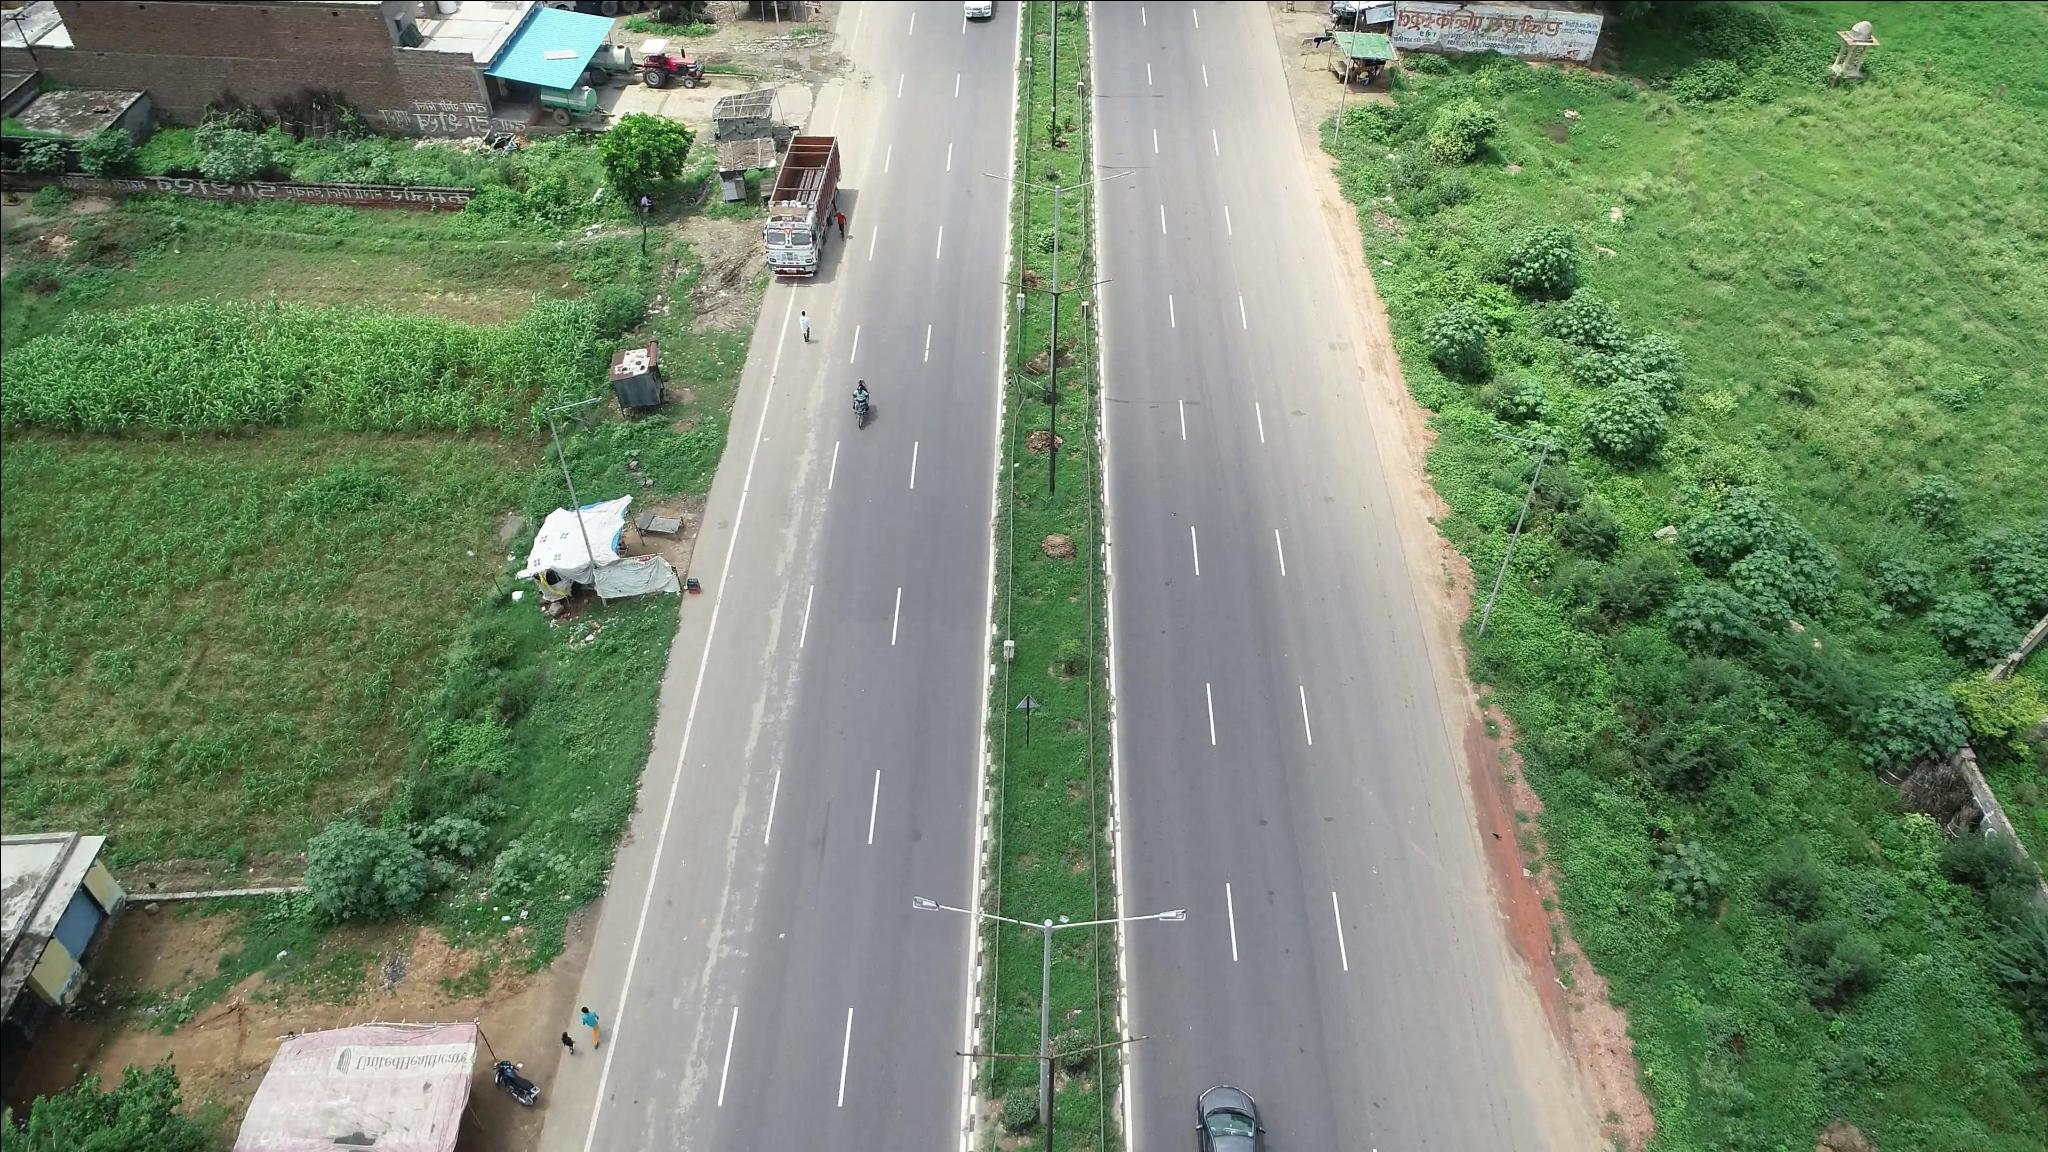Ravelling: (760, 475, 821, 722)
